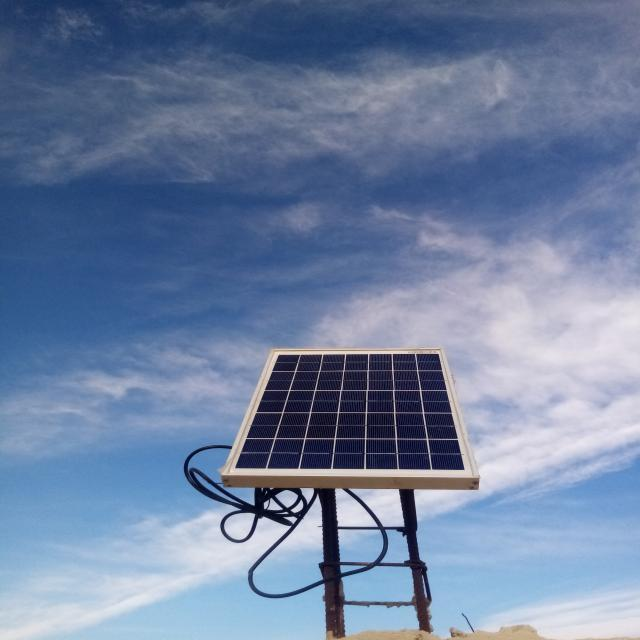no faulty: (224, 349, 476, 478)
